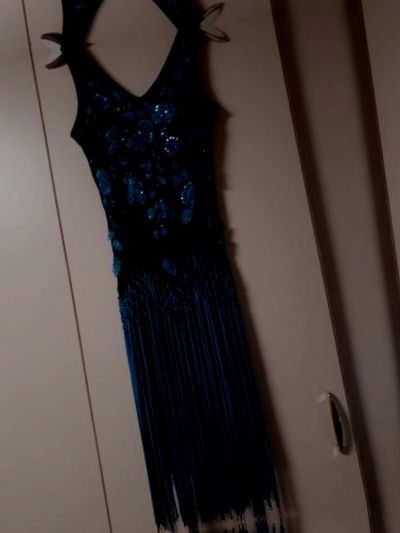Dress: (22, 25, 327, 533), (0, 0, 246, 48), (388, 0, 400, 480), (102, 514, 400, 533)
